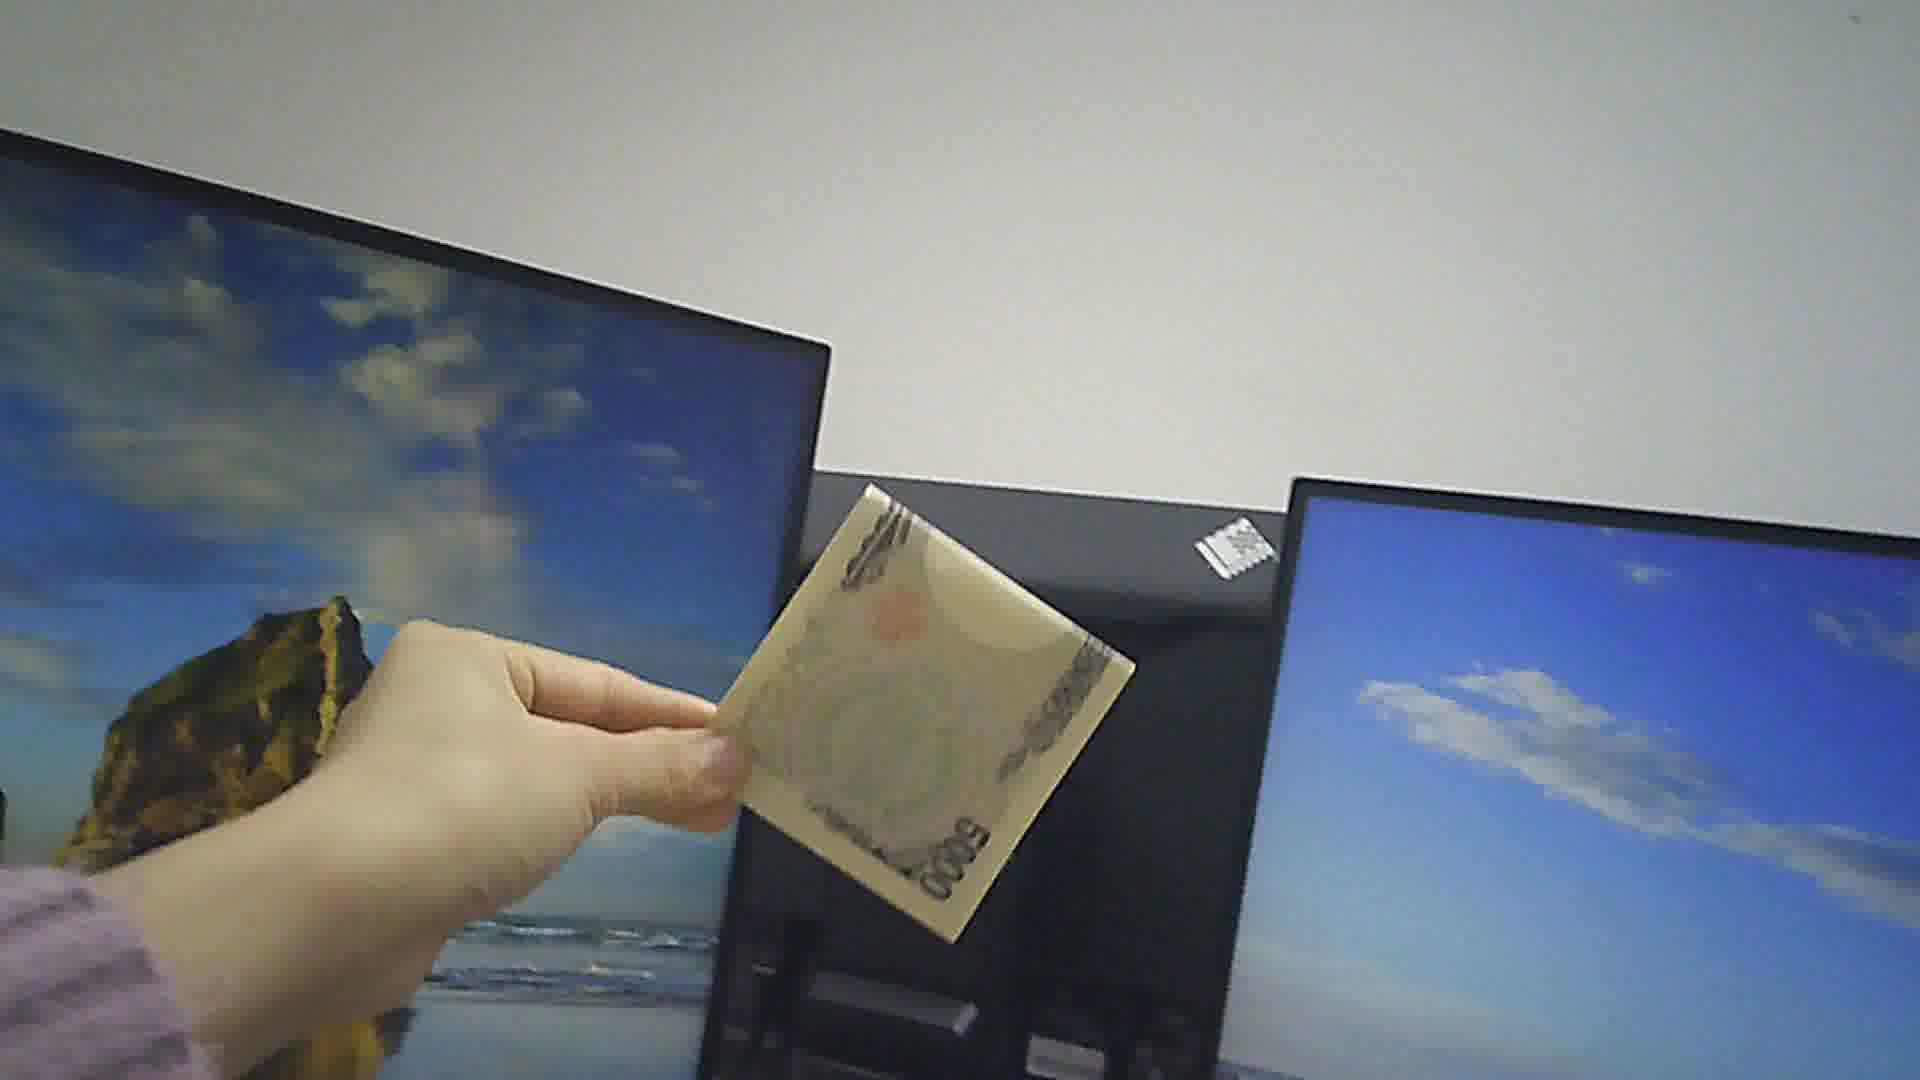5,000 Yen: (684, 477, 1164, 964)
